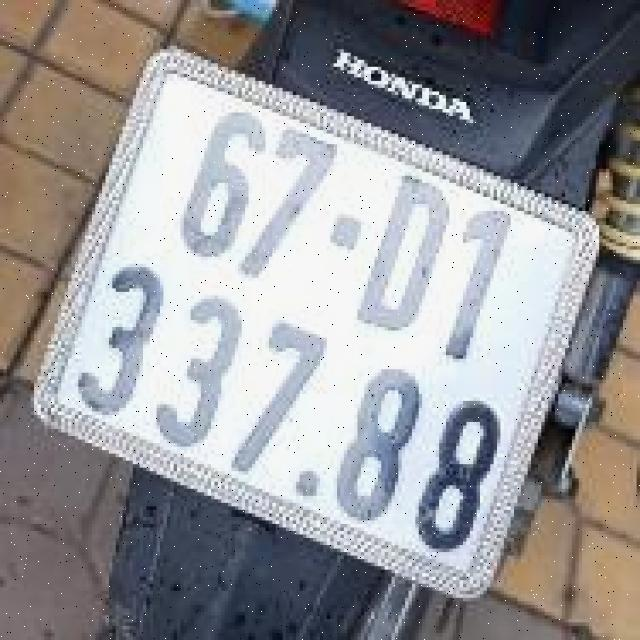1: (456, 206, 521, 374)
3: (167, 286, 252, 448), (90, 264, 162, 411)
6: (177, 104, 255, 269)
7: (240, 133, 339, 284), (247, 313, 328, 478)
8: (420, 388, 506, 558), (342, 366, 424, 528)
D: (366, 174, 448, 332)
